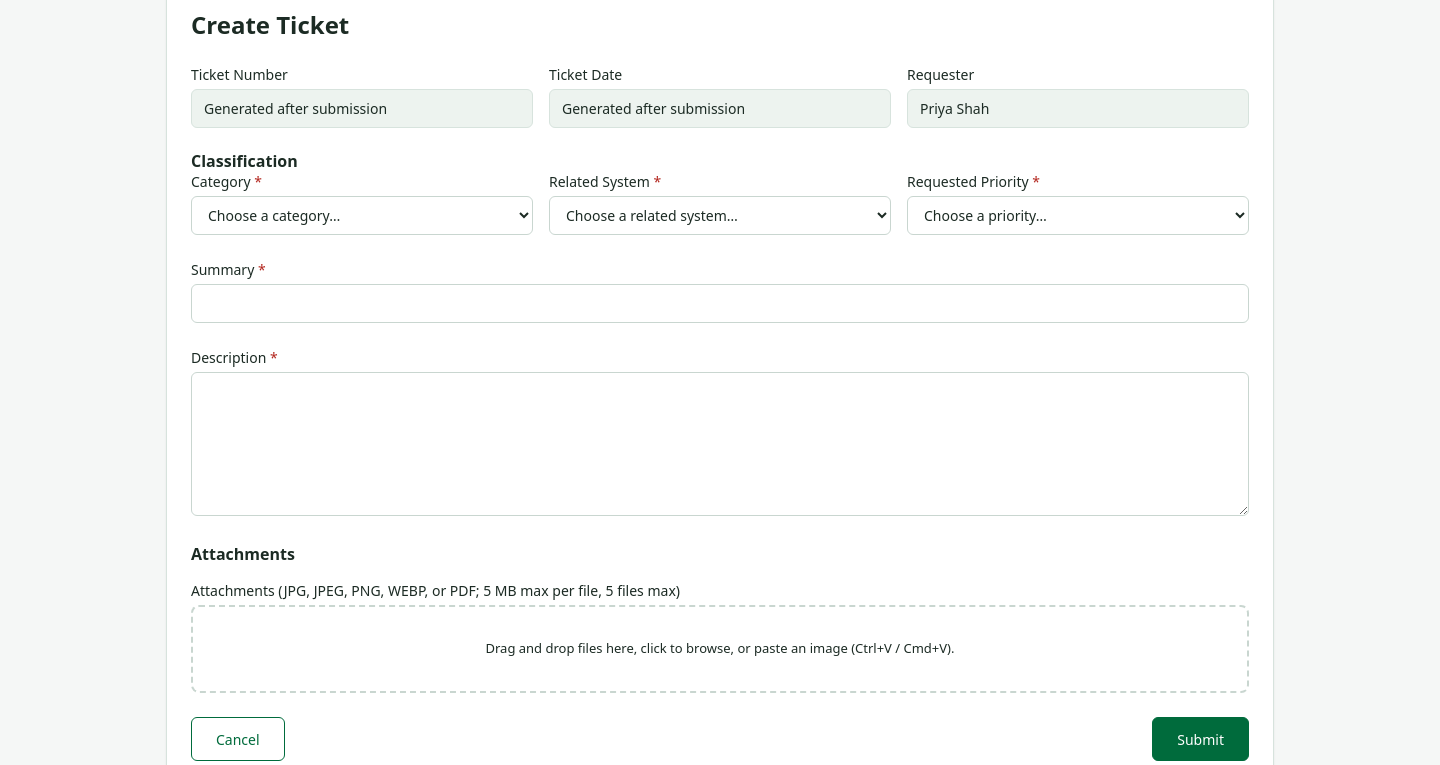
UI-05 (AC-04, AC-26): blank Summary › clears the error once the Requester fills the field in, without a second submit
This screenshot has width=1440, height=765.
(page scrolled)
expect the dropdown labelled "Category *" is shown: met, box [191, 196, 533, 235]
Click the button "Submit": (1201, 739) [1152, 717, 1249, 761]
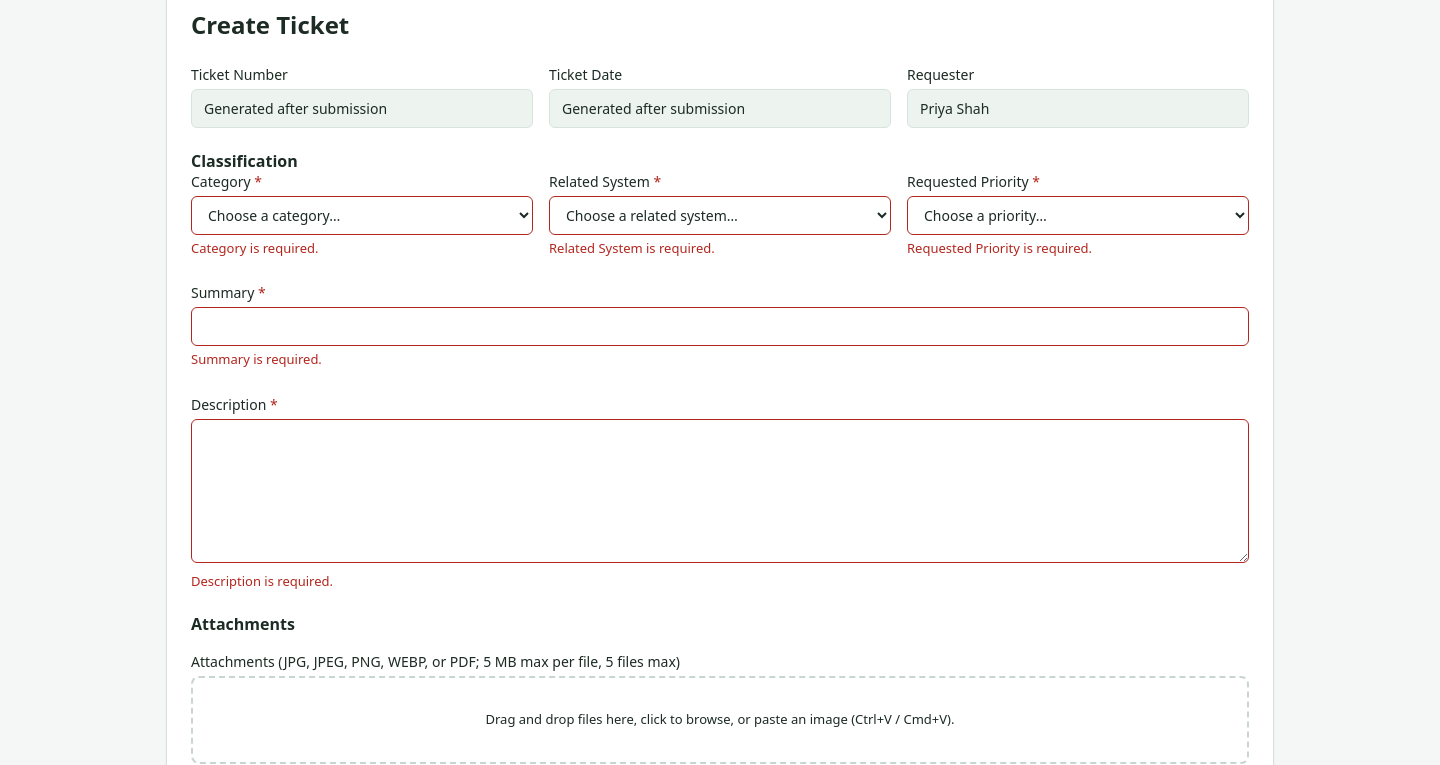
expect the text "Summary is required." is shown: met, box [191, 350, 322, 368]
In the field labelled "Summary *": (720, 327) [191, 308, 1249, 346], type "Laptop battery drains quickly"
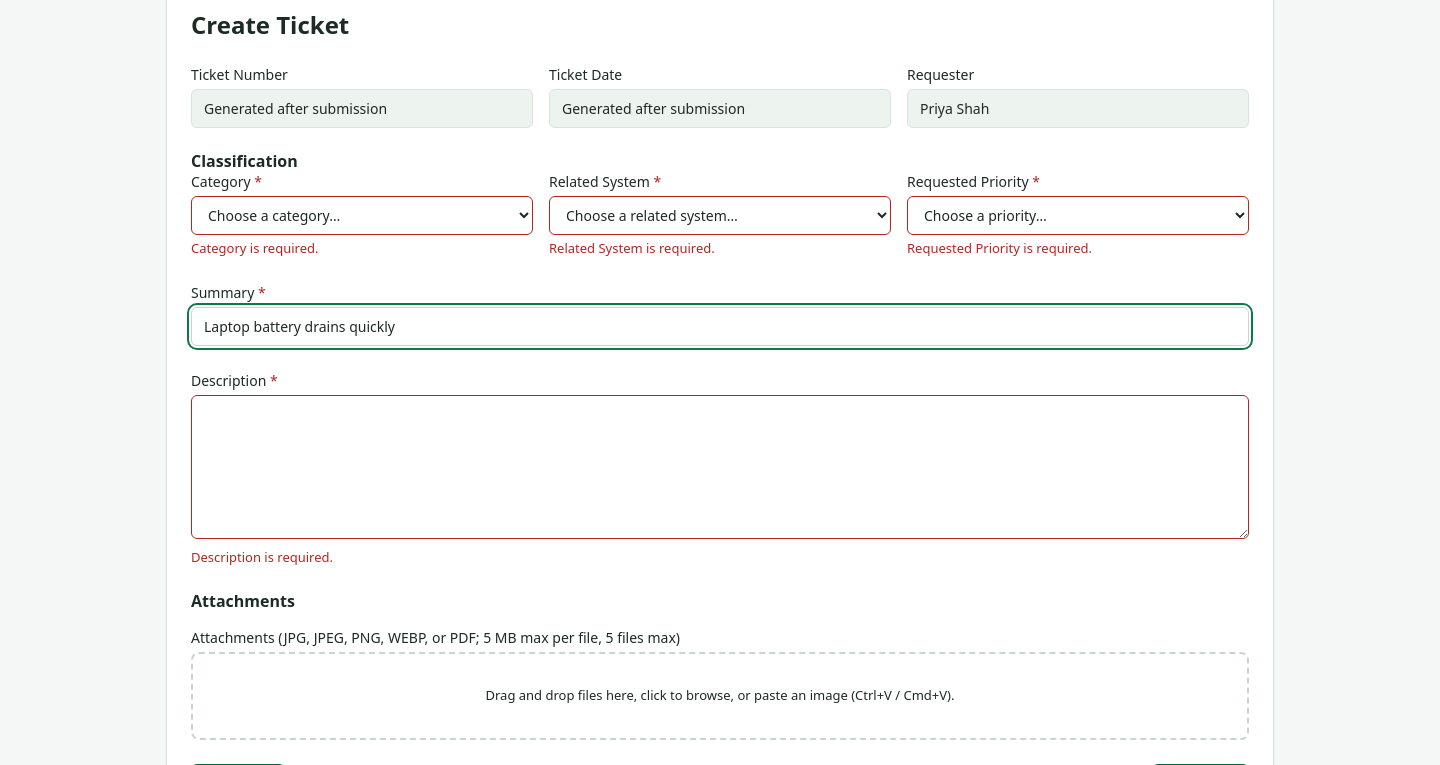
expect the text "Summary is required" is gone: met
